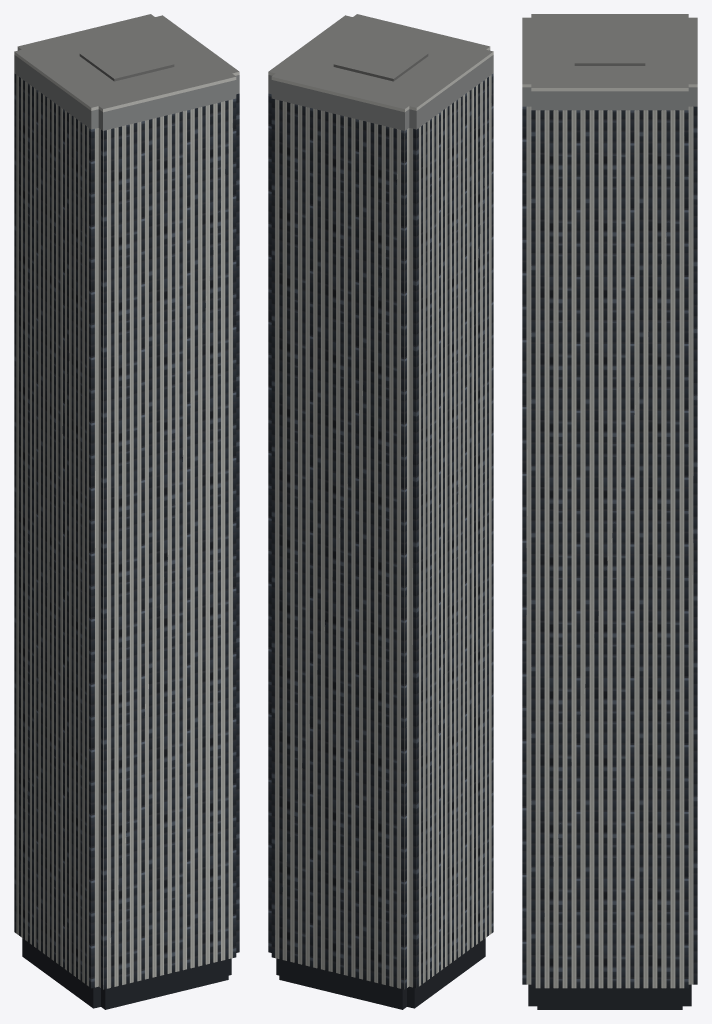
The model's file is aon_center.glb.
The picture shows the model from 3 angles, left to right: view 1: azimuth 30°, elevation 25°; view 2: azimuth 150°, elevation 25°; view 3: azimuth 270°, elevation 25°; orthographic projection. The views are drawn at different scales.
Visible parts, largest first — view 1: aon_center; view 2: aon_center; view 3: aon_center.
Boxes of the visible parts, left/top/right/bottom form: aon_center: left=14, top=14, right=239, bottom=1009; aon_center: left=268, top=14, right=493, bottom=1009; aon_center: left=522, top=14, right=697, bottom=1009.
Size of the model in its own units: 59.4 by 347 by 59.4.
Materials: 2 (2 with a texture image).
